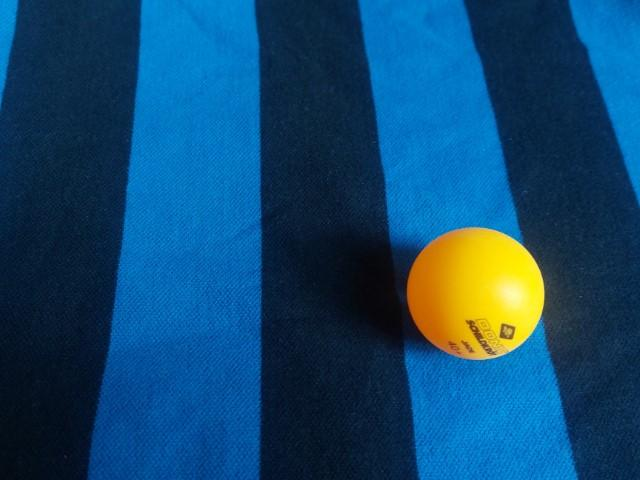oball: (401, 219, 548, 364)
